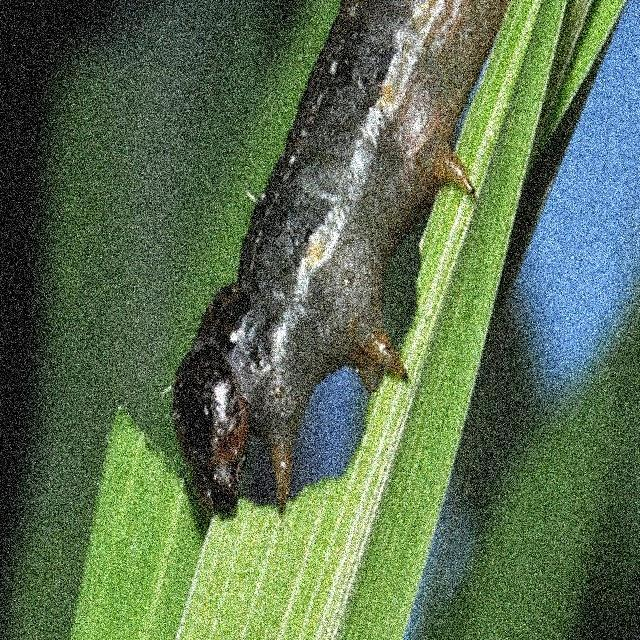Plaga: (173, 11, 475, 518)
